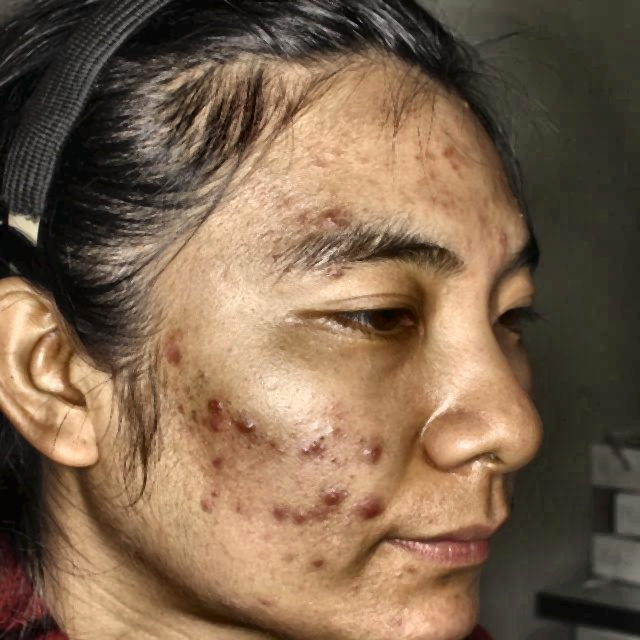pustule: (200, 387, 232, 418), (164, 334, 188, 362), (235, 414, 258, 442), (322, 486, 344, 512), (497, 225, 520, 249), (210, 415, 234, 438), (322, 200, 348, 220), (264, 500, 286, 522), (372, 441, 393, 463), (360, 498, 377, 520), (207, 458, 230, 472), (298, 436, 314, 454), (447, 140, 458, 161), (298, 503, 311, 519), (312, 557, 322, 569)
